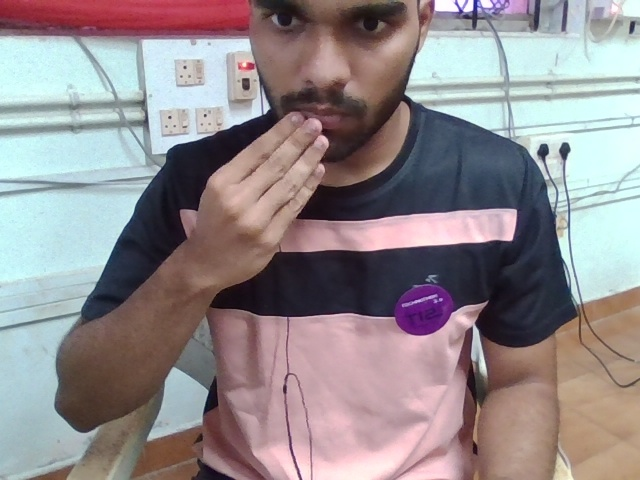eat: (171, 100, 351, 307)
